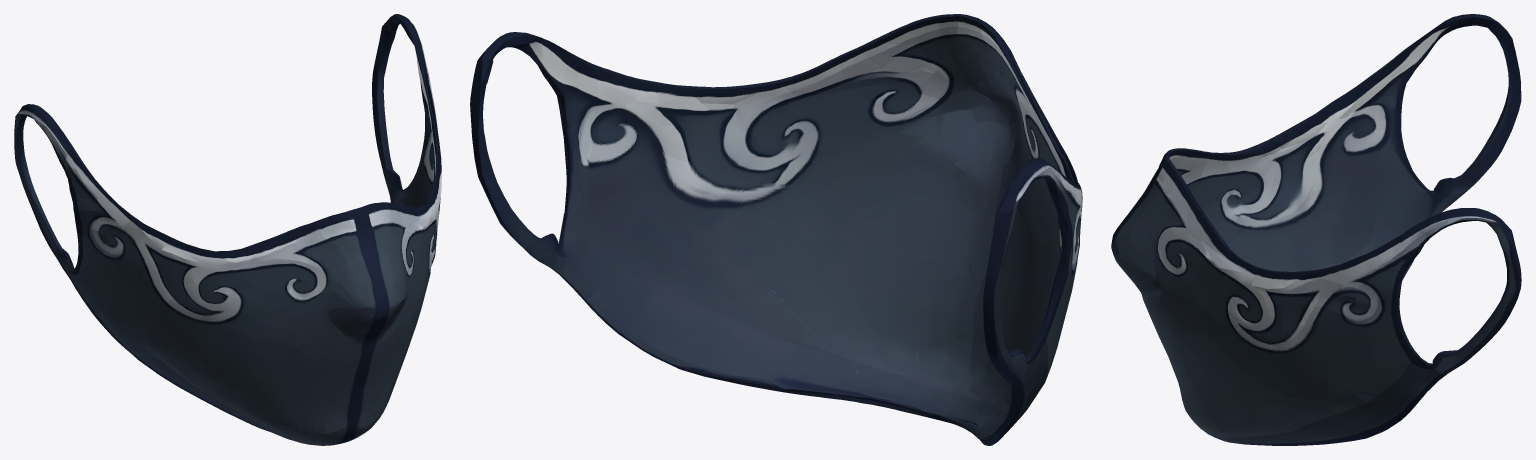
Rendered from nerith_f-masque-1-volutes-brodees.glb.
3 renders of one model, left to right at view 1: azimuth 30°, elevation 25°; view 2: azimuth 150°, elevation 25°; view 3: azimuth 270°, elevation 25°, orthographic. The views are drawn at different scales.
Parts seen in each view (by area): view 1: geometry_0; view 2: geometry_0; view 3: geometry_0.
Part boxes in pixels (bbox=[...]): geometry_0: bbox=[14, 14, 441, 445]; geometry_0: bbox=[470, 14, 1082, 445]; geometry_0: bbox=[1111, 14, 1521, 445].
Size of the model in its own units: 1.9 by 1.42 by 1.64.
1 material, 1 textured.
